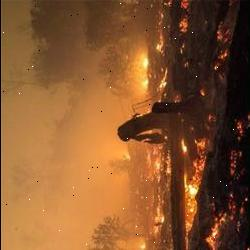fire: (119, 2, 239, 249)
